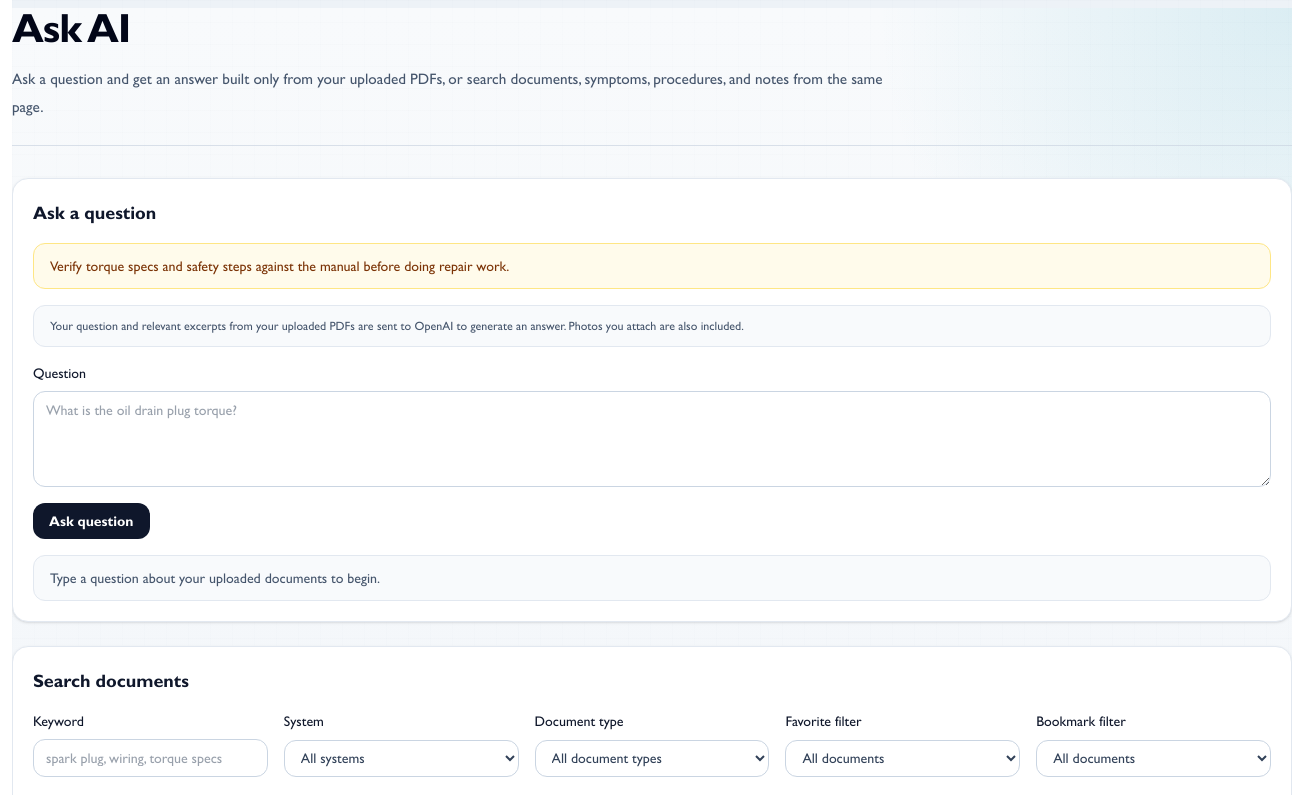
Test: SearchPage shows the Ask a question panel empty state above document search
Expected: the element "Ask a question" is shown, [12,178,1291,622]
Expected: the text "Type a question about your uploaded documents to begin." is shown, [33,555,1271,601]
Click the button "Ask question" at (91, 521), box [33,503,150,539]
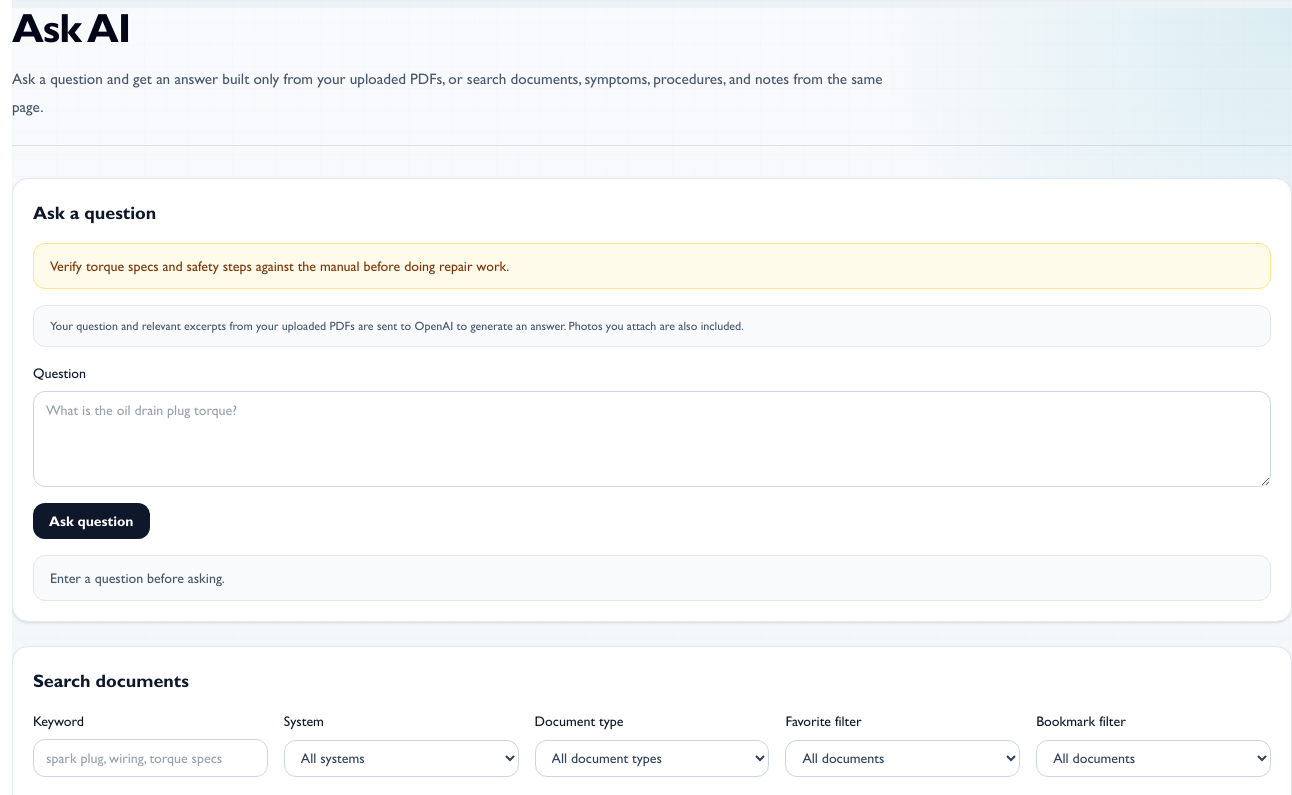
Expected: the text "Enter a question before asking." is shown, [33,555,1271,601]
